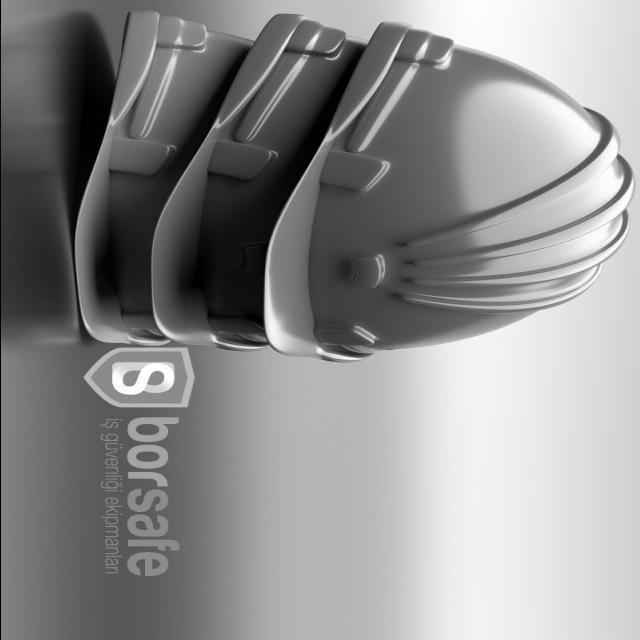safety_helmet: (257, 20, 632, 365)
